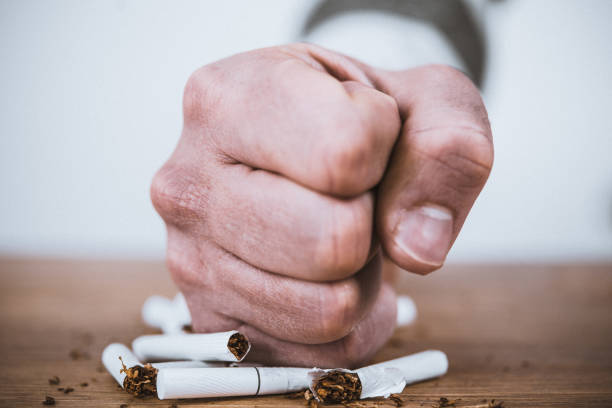cigarette: (306, 348, 450, 408), (156, 366, 324, 401), (131, 330, 252, 363), (101, 342, 156, 397)
